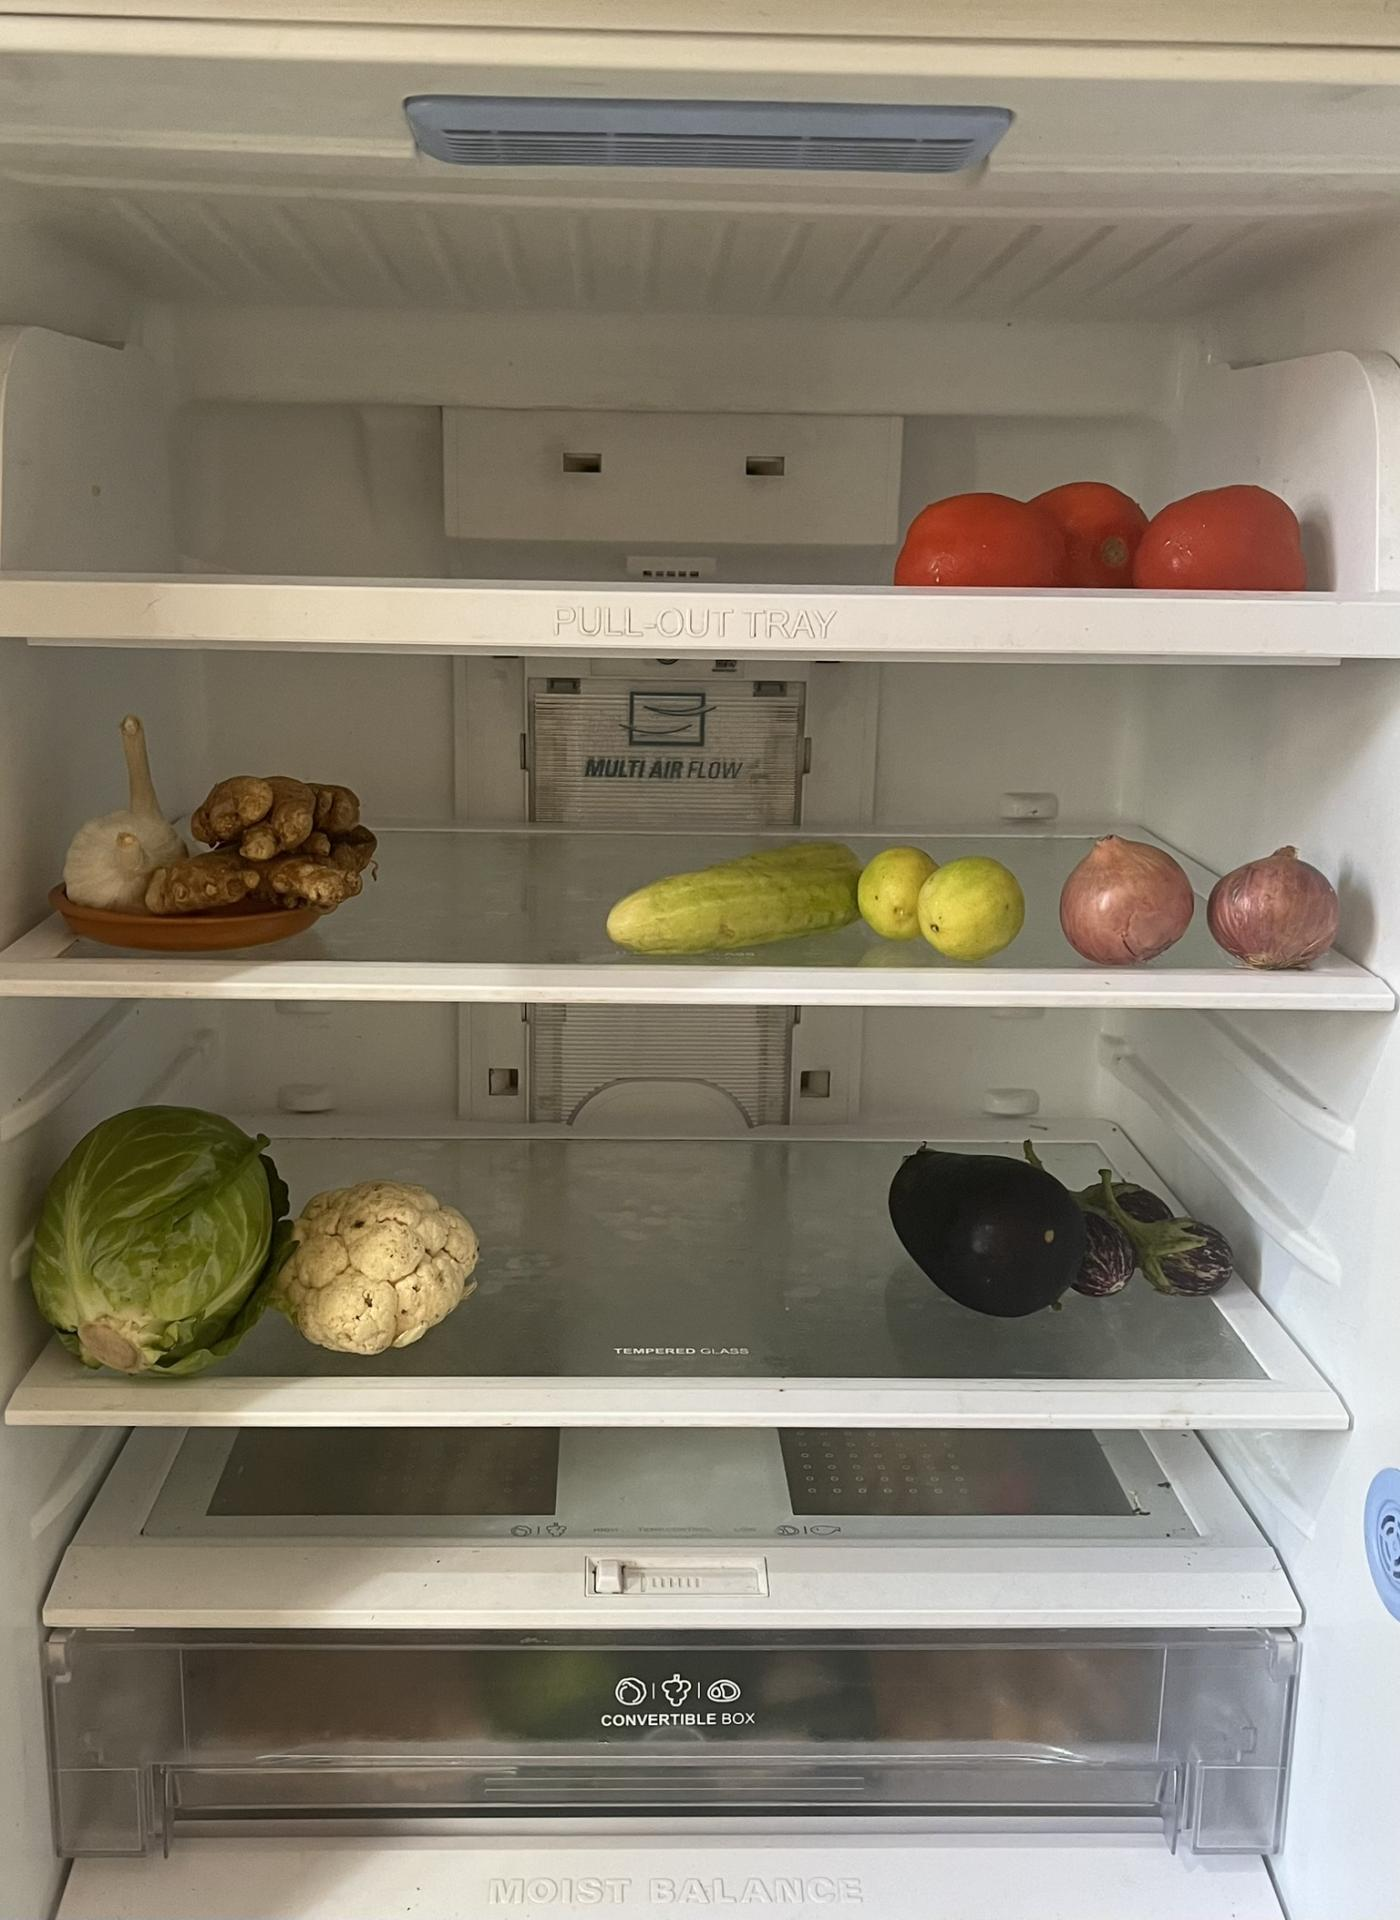brinjal: (886, 1146, 1076, 1307), (1065, 1164, 1232, 1298)
cabbage: (36, 1105, 303, 1368)
cauliflower: (288, 1191, 477, 1348)
cucumber: (611, 845, 862, 933)
garlic: (60, 714, 186, 905)
ginger: (168, 766, 376, 917)
lemon: (872, 848, 1026, 953)
onion: (1059, 836, 1339, 961)
tomato: (904, 483, 1306, 590)
